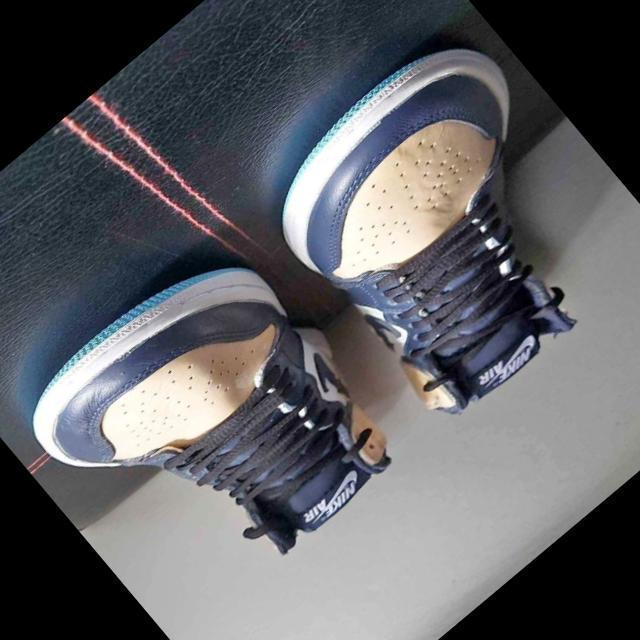nike fake jordan 1: (239, 15, 640, 440), (8, 219, 420, 632)
